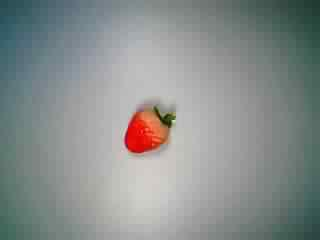strawberry: (115, 95, 183, 159)
